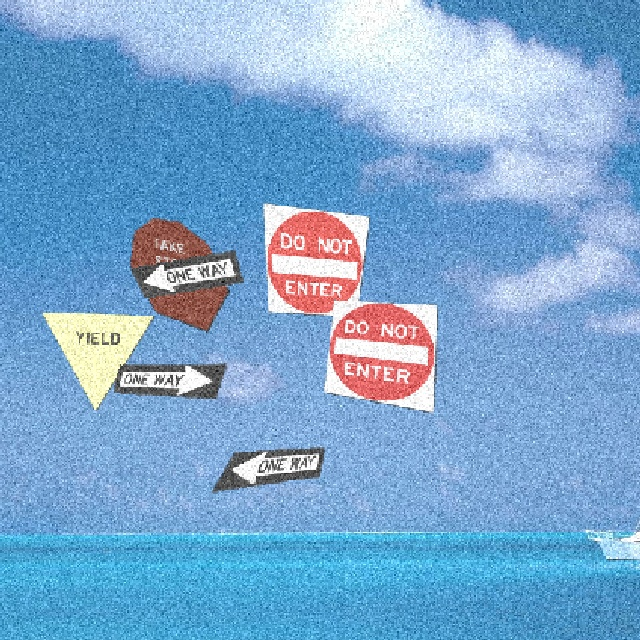DO_NOT_ENTER: (322, 298, 437, 412), (261, 201, 369, 316)
FAKE_STOP: (128, 216, 228, 331)
ONE_WAY_ left: (128, 248, 243, 297), (209, 445, 324, 491)
ONE_WAY_ right: (111, 362, 226, 398)
YIELD: (39, 310, 154, 411)
